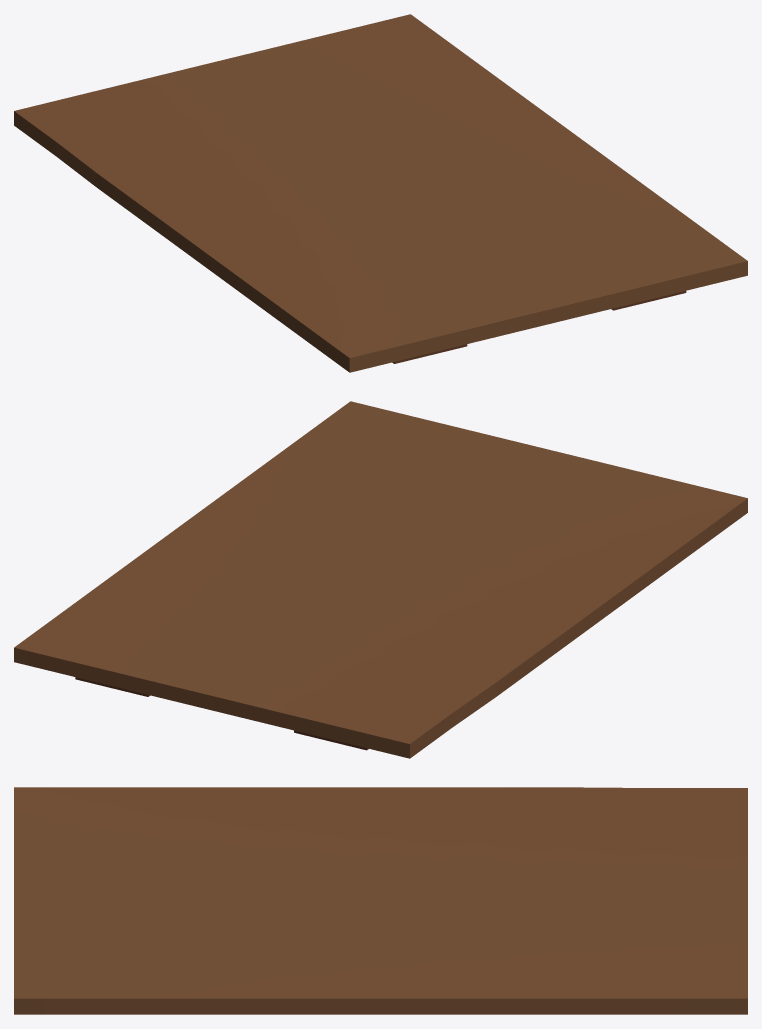
File: Small Single Light Crate Lid.fbx
The picture shows the model from 3 angles, top to bottom: view 1: azimuth 30°, elevation 25°; view 2: azimuth 150°, elevation 25°; view 3: azimuth 270°, elevation 25°; orthographic projection. The views are drawn at different scales.
Visible parts, largest first — view 1: Small Light Single Crate Lid; view 2: Small Light Single Crate Lid; view 3: Small Light Single Crate Lid.
Boxes of the visible parts, x1=… form: Small Light Single Crate Lid: x1=14, y1=14, x2=747, y2=372; Small Light Single Crate Lid: x1=14, y1=401, x2=747, y2=758; Small Light Single Crate Lid: x1=14, y1=787, x2=747, y2=1014.
Size of the model in its own units: 8.35 by 204 by 139.
1 material, 1 textured.
